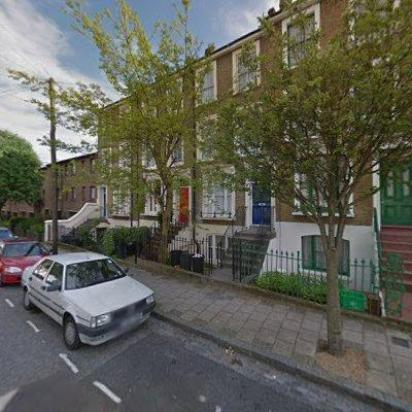stationary-car-onstreet: (21, 250, 157, 350), (0, 238, 54, 290), (0, 227, 18, 250)
